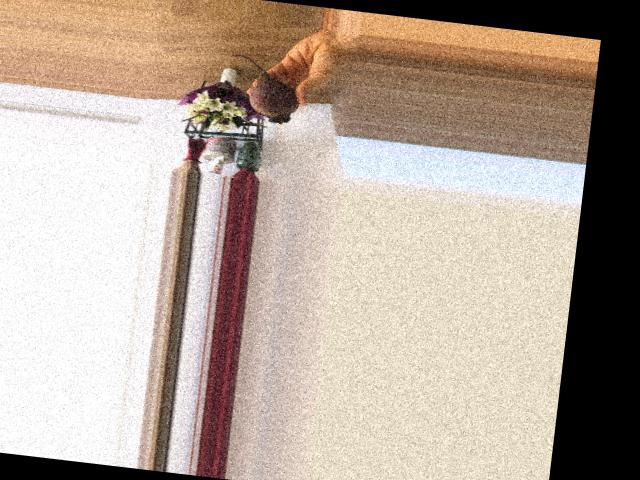beet: (223, 54, 303, 125)
